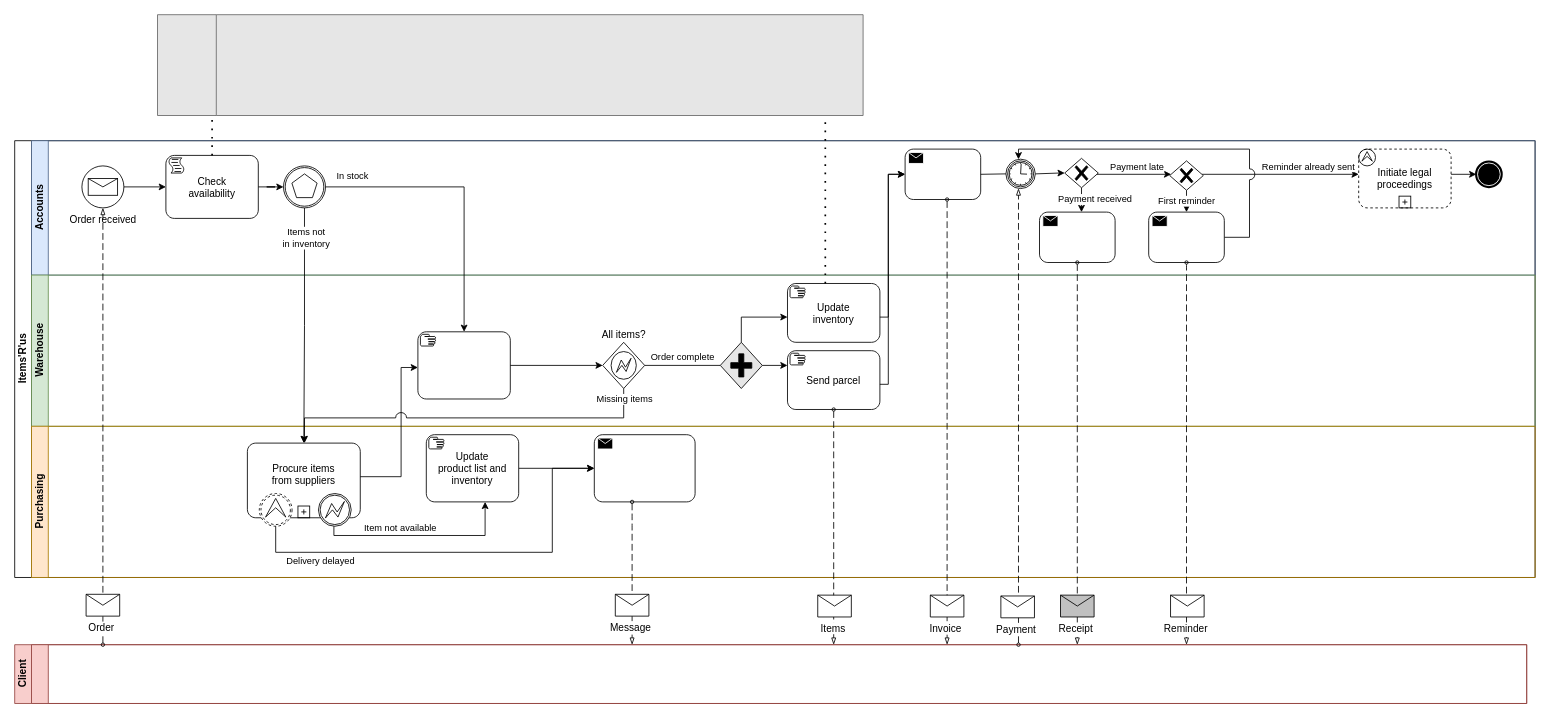
The diagram is 1550 pixels wide and 718 high, and some of its shapes have lost their labels. Each missing label, with the centre of its shape:
"Inform client" goes at (644,468).
"Inventory management system" goes at (510,65).
"Pack items" goes at (463,365).
"Send invoice" goes at (942,174).
"Send receipt" goes at (1077,236).
"Send reminder" goes at (1186,236).
